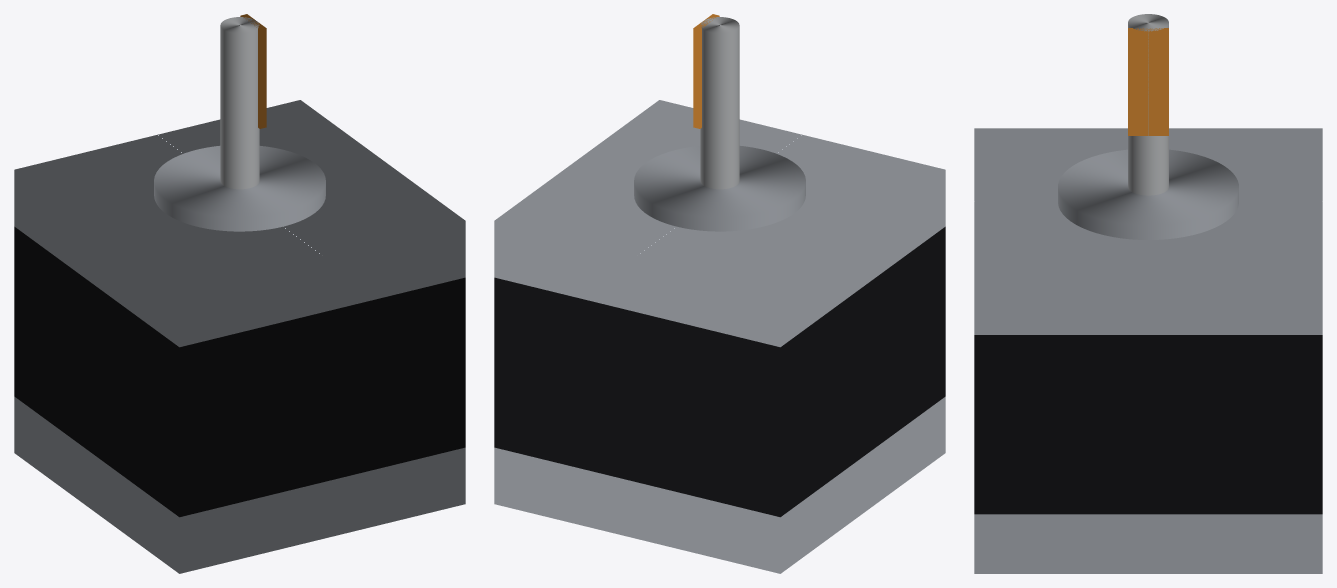
Rendered from nema17.obj.
3 renders of one model, left to right at view 1: azimuth 30°, elevation 25°; view 2: azimuth 150°, elevation 25°; view 3: azimuth 270°, elevation 25°, orthographic. The views are drawn at different scales.
Parts seen in each view (by area): view 1: stator_stack, front_cap, end_cap, pilot_boss, shaft, shaft_flat; view 2: stator_stack, front_cap, end_cap, pilot_boss, shaft, shaft_flat; view 3: stator_stack, front_cap, end_cap, pilot_boss, shaft_flat, shaft.
Boxes of the visible parts, x1,y1,x2,y2 form: stator_stack: [14, 226, 465, 517]; front_cap: [14, 100, 465, 347]; end_cap: [14, 396, 465, 573]; pilot_boss: [154, 146, 325, 231]; shaft: [220, 17, 259, 189]; shaft_flat: [240, 14, 266, 128]; stator_stack: [494, 226, 945, 517]; front_cap: [494, 100, 945, 347]; end_cap: [494, 396, 945, 573]; pilot_boss: [634, 146, 805, 231]; shaft: [700, 17, 739, 189]; shaft_flat: [693, 14, 719, 128]; stator_stack: [974, 335, 1322, 514]; front_cap: [974, 128, 1322, 334]; end_cap: [974, 514, 1322, 573]; pilot_boss: [1058, 149, 1238, 239]; shaft_flat: [1128, 28, 1168, 135]; shaft: [1128, 14, 1168, 195].
Size of the model in its own units: 0.0423 by 0.064 by 0.0423.
